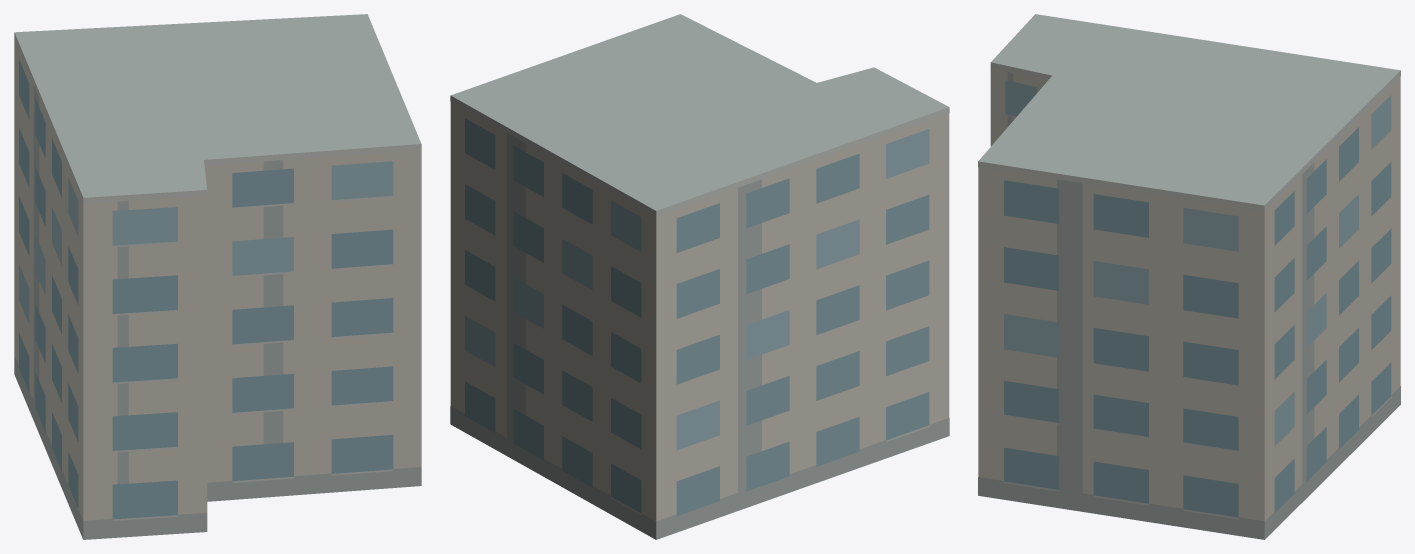
File: survey-upis-32920594.glb
The picture shows the model from 3 angles, left to right: view 1: azimuth 30°, elevation 25°; view 2: azimuth 150°, elevation 25°; view 3: azimuth 270°, elevation 25°; orthographic projection. The views are drawn at different scales.
Parts seen in each view (by area): view 1: survey-upis-32920594.tmp; view 2: survey-upis-32920594.tmp; view 3: survey-upis-32920594.tmp.
Part boxes in pixels (x1,y1,x2,y2): survey-upis-32920594.tmp: (14,14,421,539); survey-upis-32920594.tmp: (450,14,949,539); survey-upis-32920594.tmp: (978,14,1400,539).
Size of the model in its own units: 17.09 by 13.9 by 15.93.
